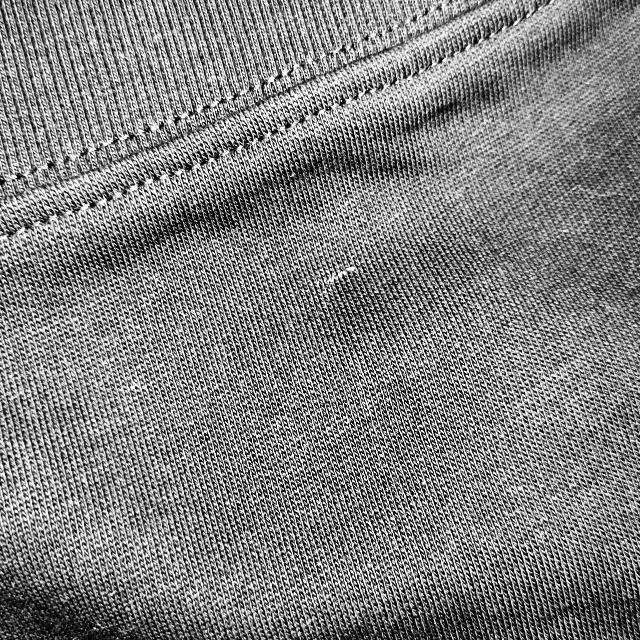Foreign_yarn: (305, 253, 368, 298)
